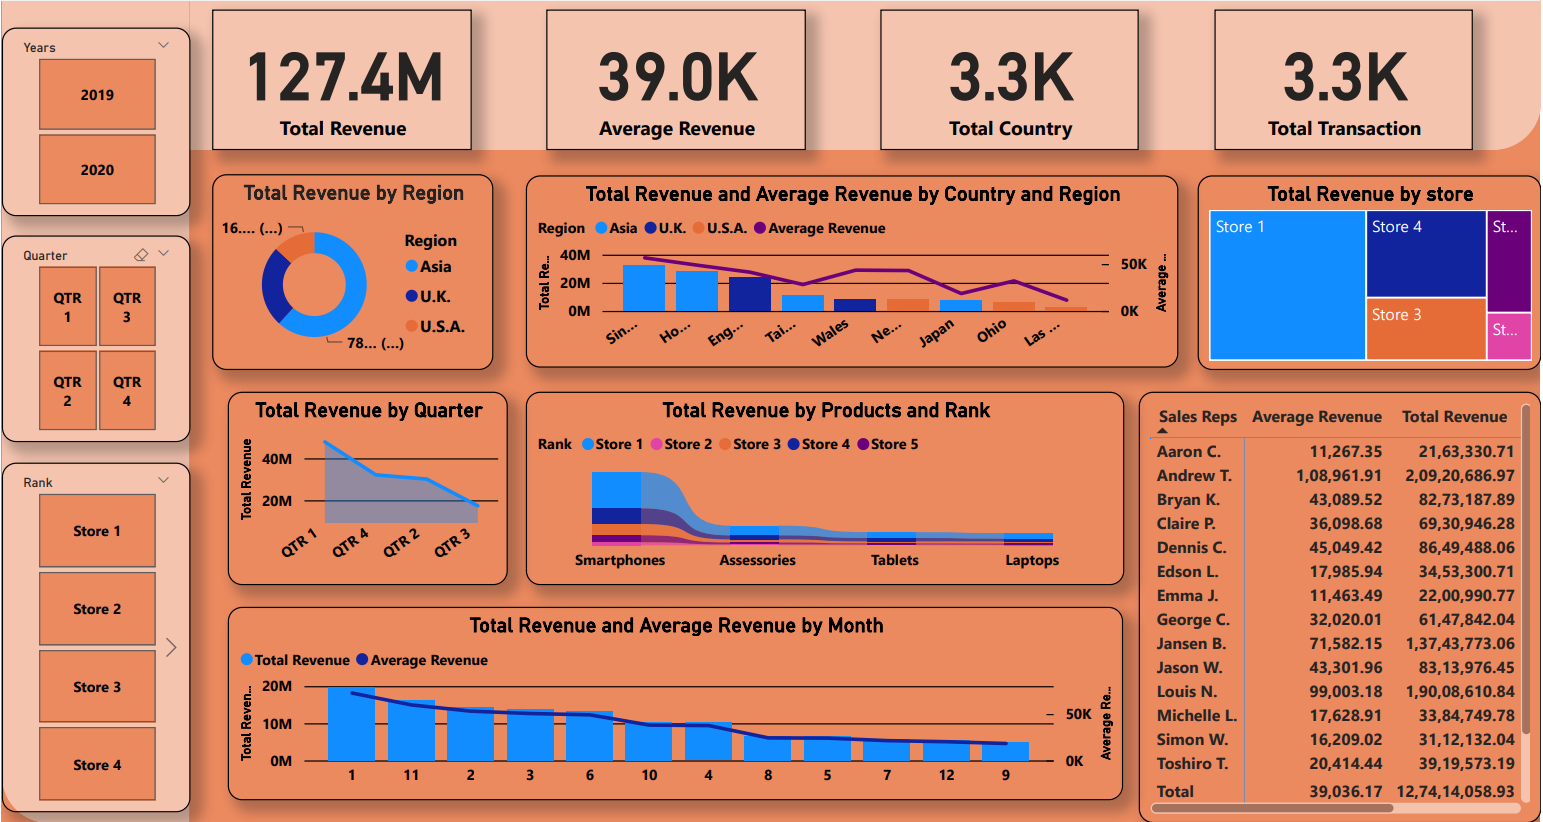

This screenshot's page, from the dashboard's own definition file:
{"tool":"powerbi","page":{"name":"Page 1","canvas":[1280,720],"ordinal":0},"visuals":[{"type":"shape","box":[0,0,156.3,719.8],"z":0},{"type":"shape","box":[156.3,0,1124.3,160.4],"z":1000},{"type":"card","fields":{"Values":["Measures (2).Total Revenue"]},"box":[175.5,42.5,215.3,117.9],"z":2000},{"type":"card","fields":{"Values":["Measures (2).Average Revenue"]},"box":[453.4,42.5,215.3,117.9],"z":3000},{"type":"card","fields":{"Values":["Measures (2).Total Country"]},"box":[731.2,42.5,215.3,117.9],"z":4000},{"type":"card","fields":{"Values":["Measures (2).Total Transaction"]},"box":[1009.1,42.5,215.3,117.9],"z":5000},{"type":"donutChart","fields":{"Y":["Measures (2).Total Revenue"],"Category":["Sheet1.Region"]},"box":[175.5,179.6,233.1,163.2],"z":6000},{"type":"lineStackedColumnComboChart","fields":{"Category":["Sheet1.Country"],"Y":["Measures (2).Total Revenue"],"Y2":["Measures (2).Average Revenue"],"Series":["Sheet1.Region"]},"box":[436,181,542.9,160.4],"z":7000},{"type":"treemap","title":"Total Revenue by store","fields":{"Values":["Measures (2).Total Revenue"],"Group":["Sheet1.Rank"]},"box":[995.4,181,285.2,161.8],"z":8000},{"type":"areaChart","fields":{"Y":["Measures (2).Total Revenue"],"Category":["Sheet1.Quarter"]},"box":[187.8,360.6,233.1,161.8],"z":9000},{"type":"ribbonChart","fields":{"Category":["Sheet1.Products"],"Y":["Measures (2).Total Revenue"],"Series":["Sheet1.Rank"]},"box":[436,360.6,497.7,161.8],"z":10000},{"type":"pivotTable","fields":{"Rows":["Sheet1.Sales Reps"],"Values":["Measures (2).Average Revenue","Measures (2).Total Revenue","Measures (2).Total Transaction"]},"box":[945.6,360.7,335,359.3],"z":11000},{"type":"lineStackedColumnComboChart","fields":{"Y":["Measures (2).Total Revenue"],"Y2":["Measures (2).Average Revenue"],"Category":["Sheet1.Month"]},"box":[187.8,540.3,745.6,160.7],"z":11001},{"type":"slicer","fields":{"Values":["Sheet1.Years"]},"box":[0,58.1,156.7,156.7],"z":11002},{"type":"slicer","fields":{"Values":["Sheet1.Quarter"]},"box":[0,231,156.7,171.6],"z":11003},{"type":"slicer","fields":{"Values":["Sheet1.Rank"]},"box":[0,420.1,156.7,290.4],"z":11004}]}

Visuals, with their boxes in screenshot pixels (x1, y1, x2, y2):
shape: <region>0, 0, 186, 821</region>
shape: <region>186, 0, 1542, 146</region>
card - Measures (2).Total Revenue: <region>209, 3, 470, 146</region>
card - Measures (2).Average Revenue: <region>546, 3, 807, 146</region>
card - Measures (2).Total Country: <region>883, 3, 1144, 146</region>
card - Measures (2).Total Transaction: <region>1220, 3, 1481, 146</region>
donutChart - Measures (2).Total Revenue x Sheet1.Region: <region>209, 170, 491, 368</region>
lineStackedColumnComboChart - Sheet1.Country x Measures (2).Total Revenue: <region>525, 171, 1183, 366</region>
"Total Revenue by store" treemap: <region>1203, 171, 1542, 368</region>
areaChart - Measures (2).Total Revenue x Sheet1.Quarter: <region>224, 389, 506, 585</region>
ribbonChart - Sheet1.Products x Measures (2).Total Revenue: <region>525, 389, 1128, 585</region>
pivotTable - Sheet1.Sales Reps x Measures (2).Average Revenue: <region>1143, 389, 1542, 821</region>
lineStackedColumnComboChart - Measures (2).Total Revenue x Measures (2).Average Revenue: <region>224, 607, 1128, 802</region>
slicer - Sheet1.Years: <region>0, 22, 186, 212</region>
slicer - Sheet1.Quarter: <region>0, 232, 186, 440</region>
slicer - Sheet1.Rank: <region>0, 461, 186, 813</region>
